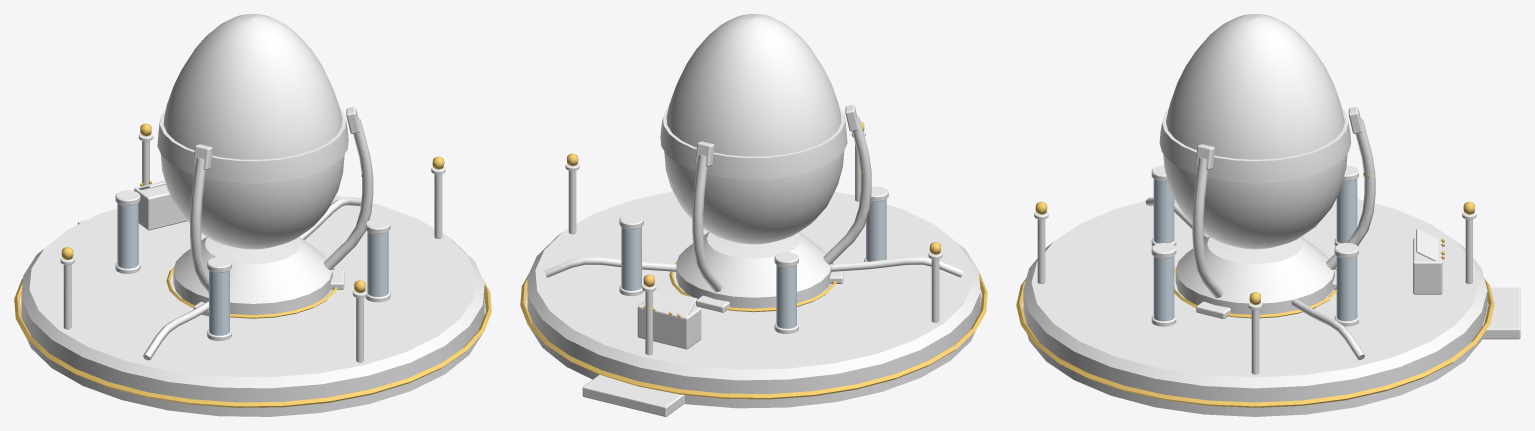
The model's file is EggIncubator.glb.
3 views of the same model, side by side, from view 1: azimuth 30°, elevation 25°; view 2: azimuth 150°, elevation 25°; view 3: azimuth 270°, elevation 25° (orthographic). The views are drawn at different scales.
Parts seen in each view (by area): view 1: Base, Egg, Cradle, Glow, Glass; view 2: Base, Egg, Cradle, Glow, Glass; view 3: Base, Egg, Cradle, Glass, Glow.
Boxes of the visible parts, <box> form: Base: <box>21,195,484,416</box>; Egg: <box>157,14,348,249</box>; Cradle: <box>60,107,445,362</box>; Glow: <box>14,123,491,407</box>; Glass: <box>117,203,388,335</box>; Base: <box>527,191,980,416</box>; Egg: <box>660,14,847,244</box>; Cradle: <box>565,105,942,355</box>; Glow: <box>520,121,987,399</box>; Glass: <box>621,199,886,328</box>; Base: <box>1023,197,1520,416</box>; Egg: <box>1159,14,1351,249</box>; Cradle: <box>1034,107,1476,374</box>; Glass: <box>1153,179,1357,321</box>; Glow: <box>1016,172,1494,407</box>.
Size of the model in its own units: 14.42 by 10 by 15.21.
